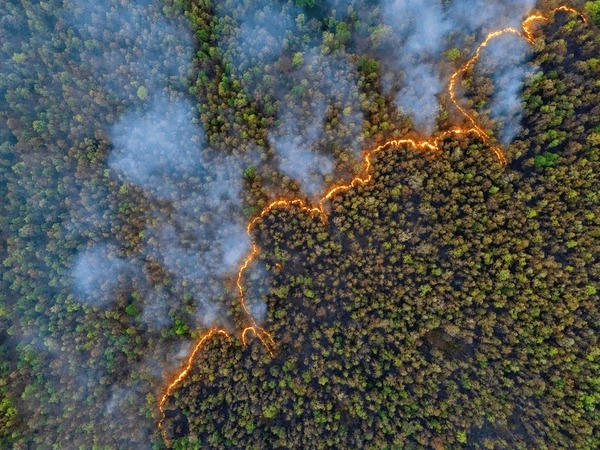forest_fire: (246, 27, 518, 237), (158, 328, 229, 441), (236, 243, 274, 355), (522, 15, 541, 37)
